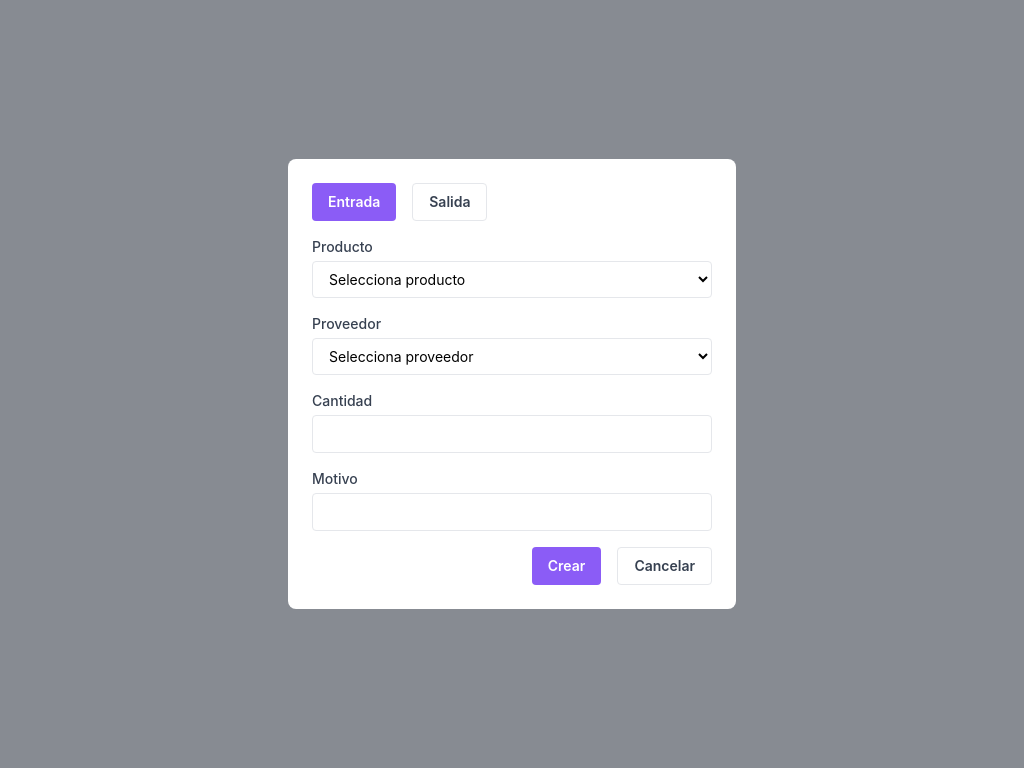
Test case: T05 — MovimientoFormModal Entrada|Salida — RF-2, RF-3 › cambio Entrada↔Salida conserva producto/cantidad/motivo y limpia errores/proveedor
Select "PROD-001 — Juego A" in the dropdown labelled "Producto" at (512, 280), box x1=312 y1=261 x2=712 y2=298
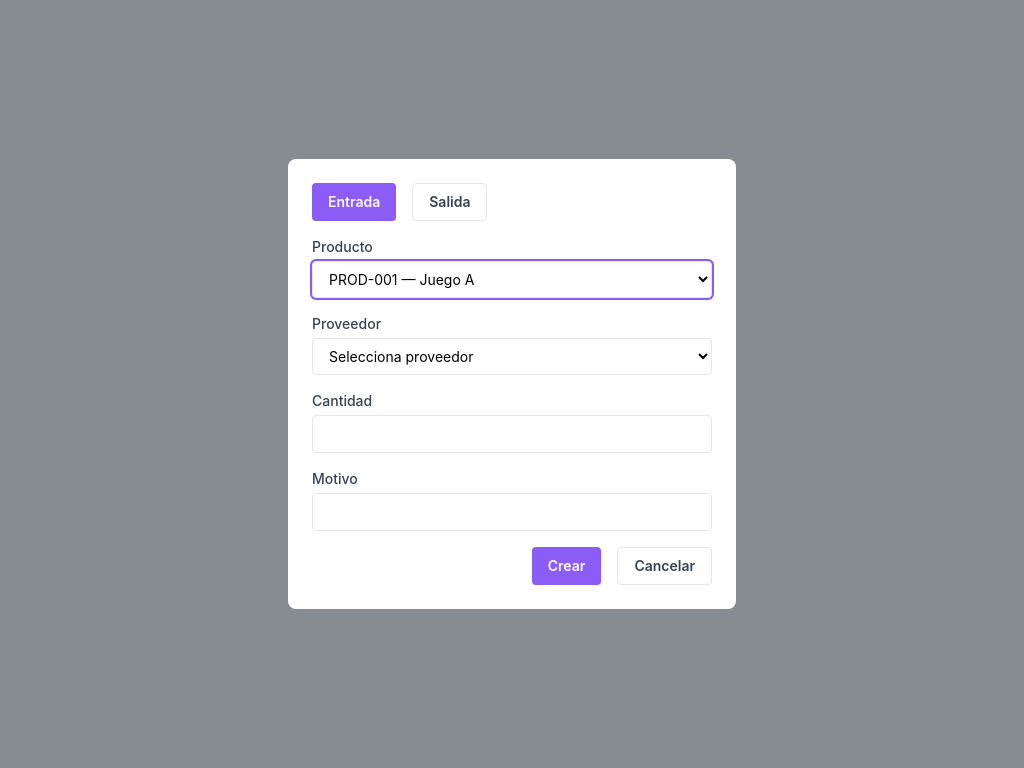
Type "5" into the field labelled "Cantidad" at (512, 434), box x1=312 y1=415 x2=712 y2=453
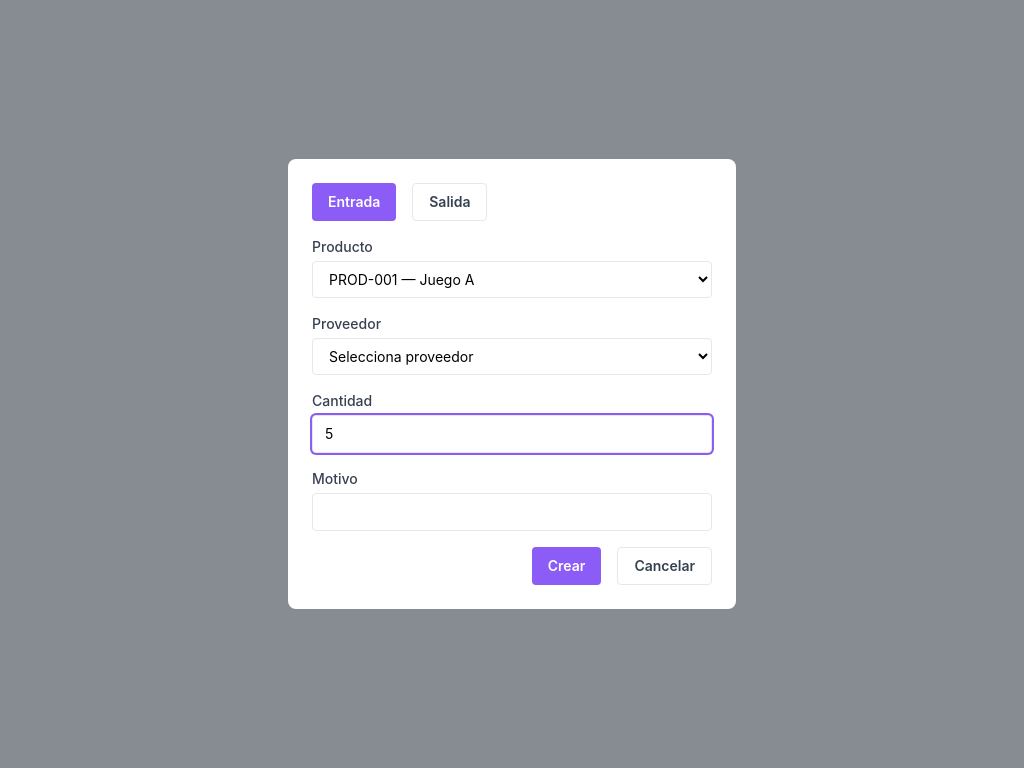
Type "Compra" into the field labelled "Motivo" at (512, 512), box x1=312 y1=493 x2=712 y2=531
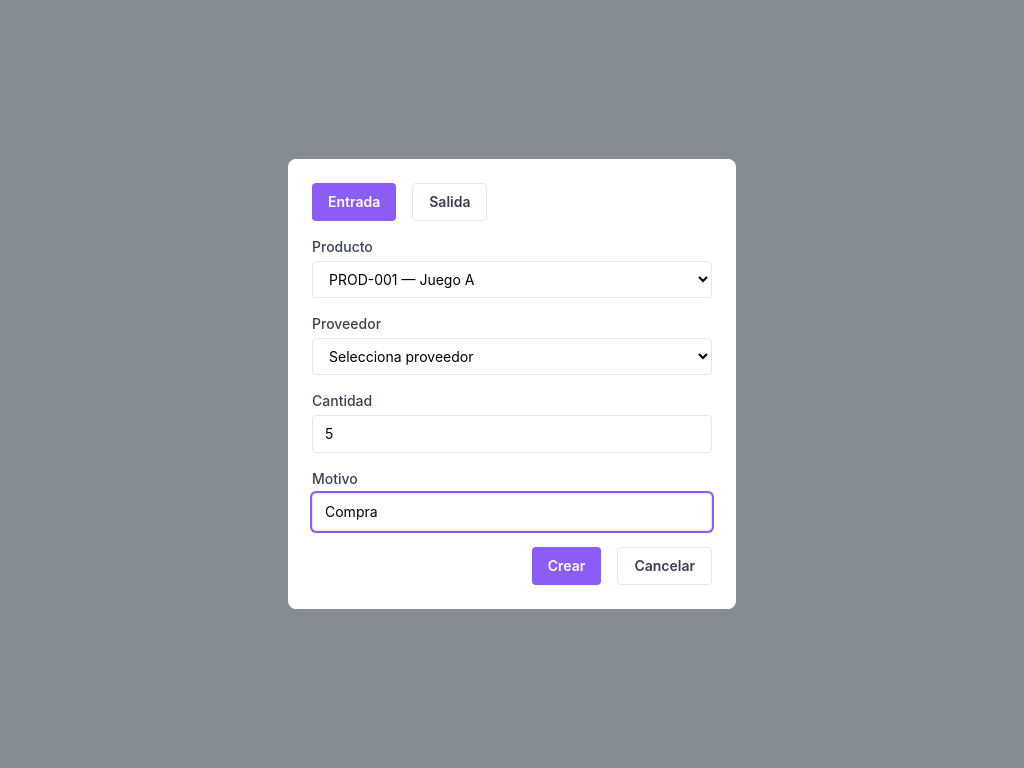
// provocar error en proveedor (vacío) y luego cambiar a Salida debe limpiar error
Click the button "Crear" at (567, 566), box x1=532 y1=547 x2=601 y2=585
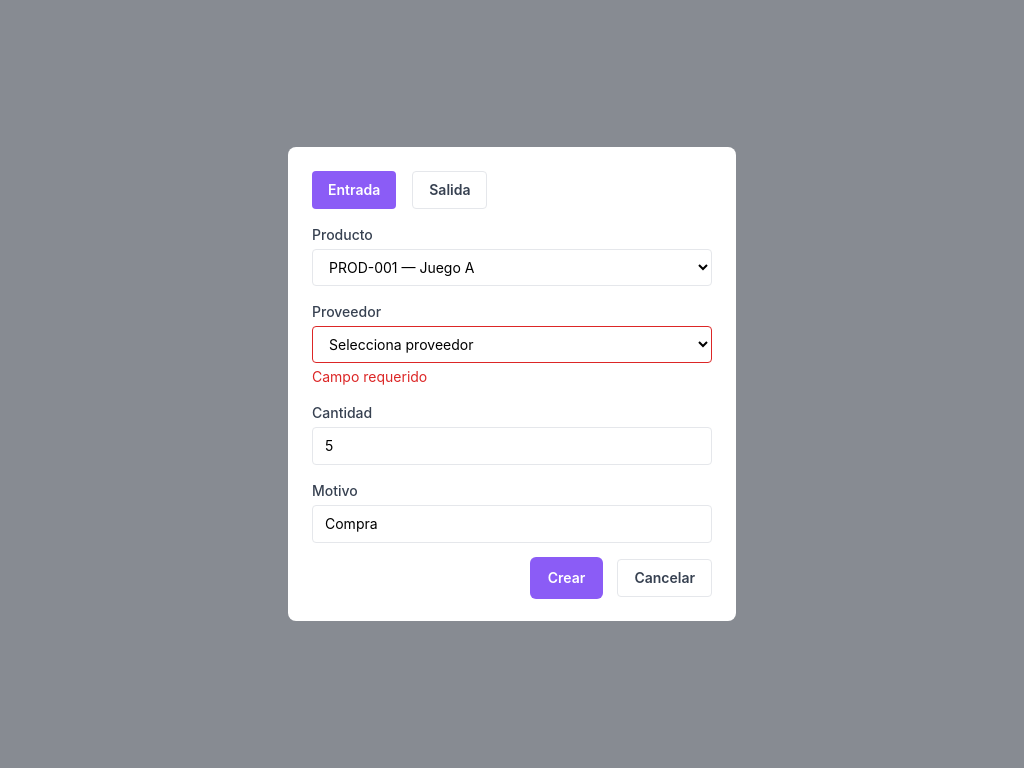
Check: the text "Campo requerido" is shown, box x1=312 y1=368 x2=427 y2=385
Click the tab "Salida" at (450, 190), box x1=412 y1=171 x2=488 y2=209
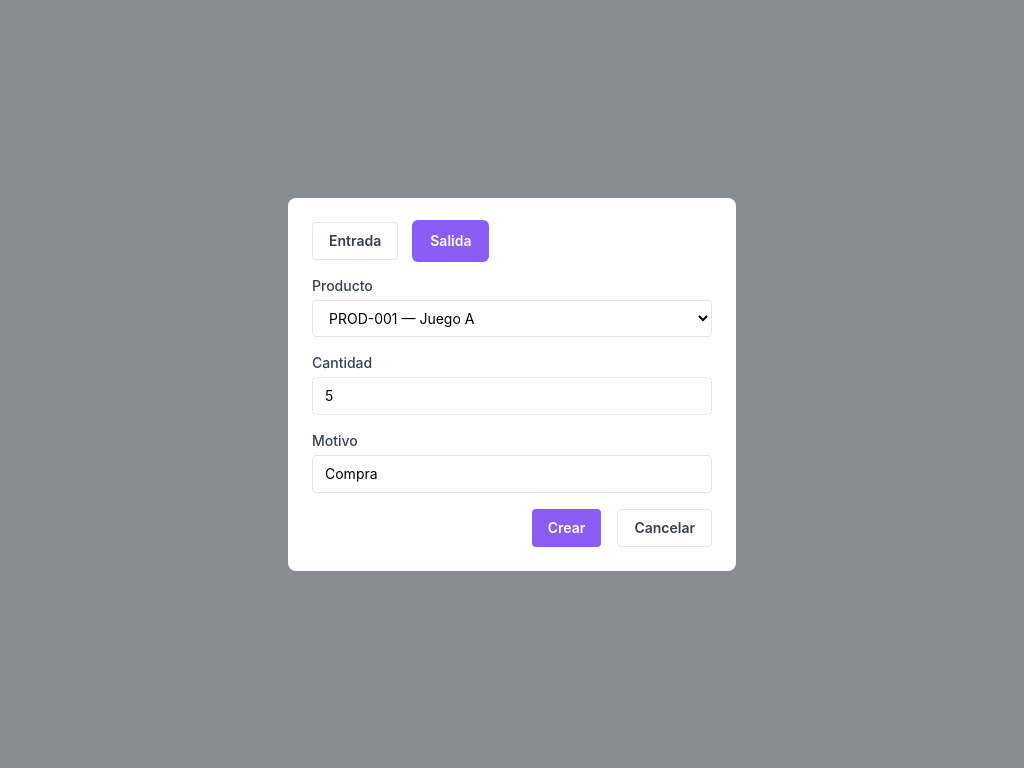
Check: the text "Campo requerido" is gone
// volver a Entrada proveedor debe estar vacío
Click the tab "Entrada" at (355, 240), box x1=312 y1=222 x2=398 y2=260
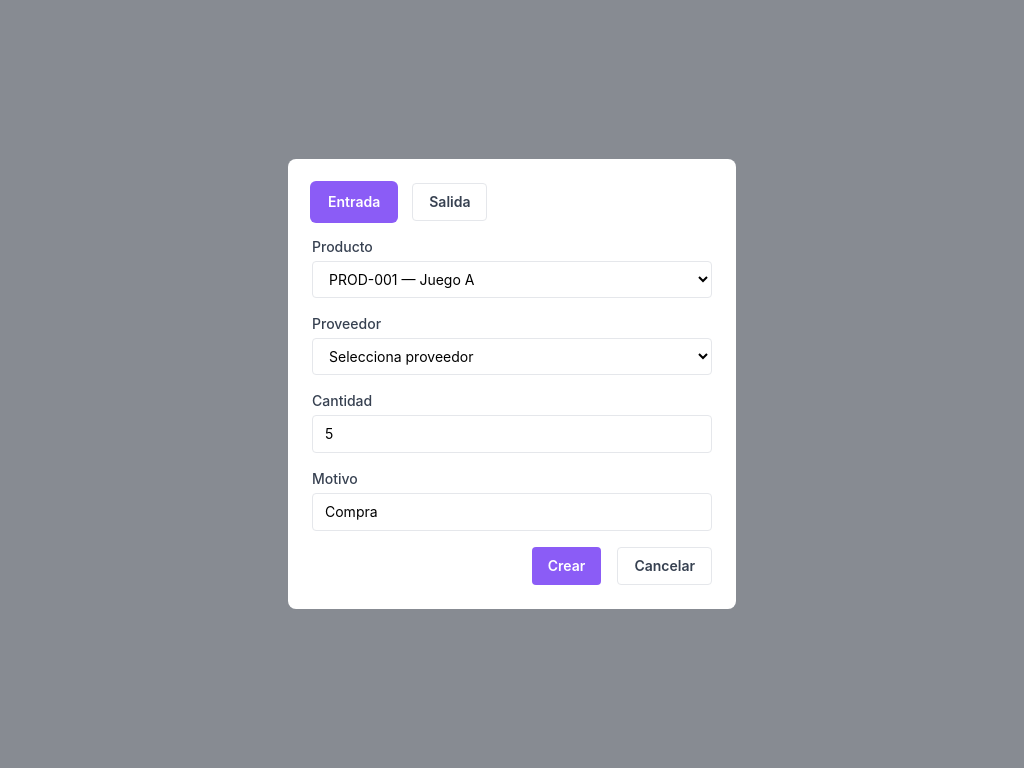
Check: the dropdown labelled "Proveedor" shows "Selecciona proveedor", box x1=312 y1=338 x2=712 y2=375
